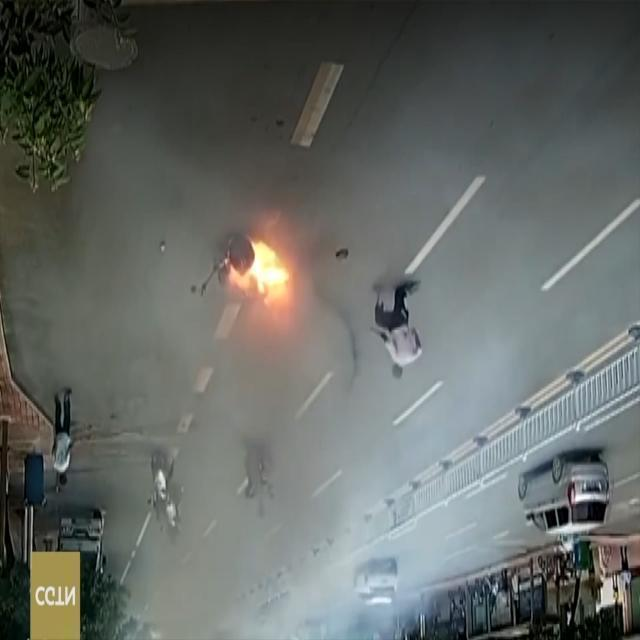fire: (217, 231, 305, 329)
